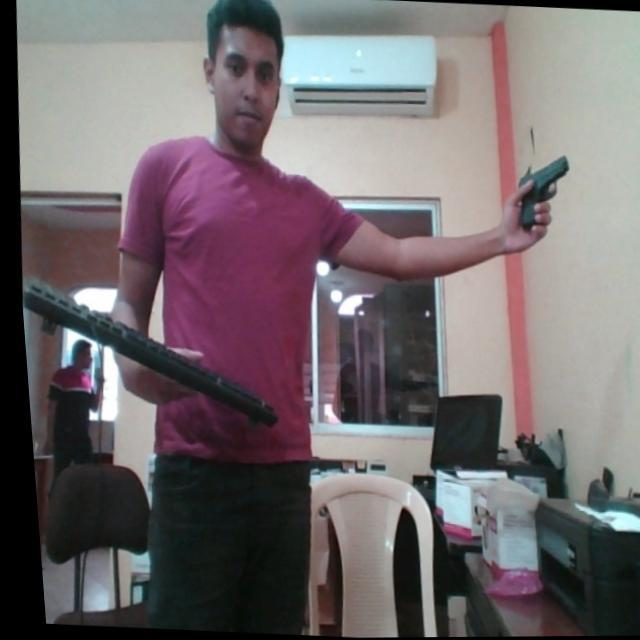weapon: (498, 150, 574, 242)
